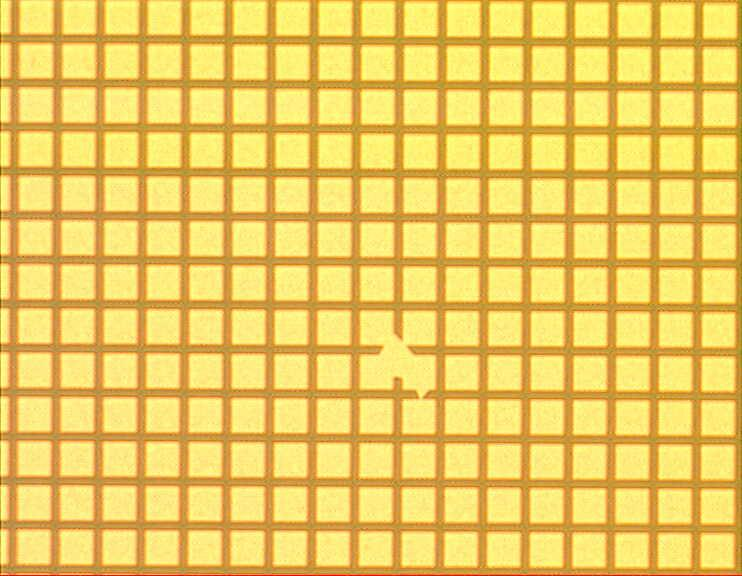BLOCK ETCH: (376, 332, 440, 402)
